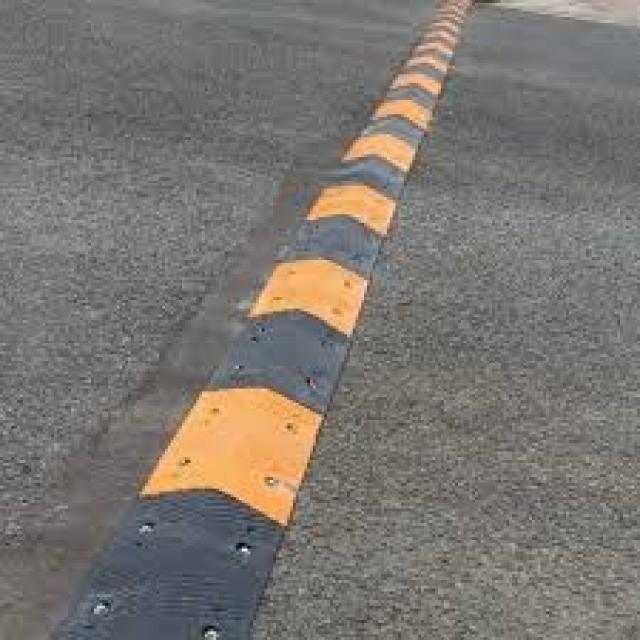Marked Bump: (40, 21, 480, 616)
